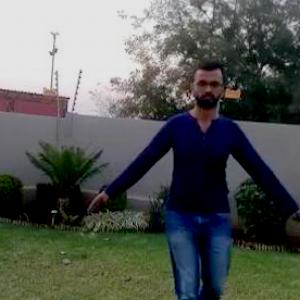land: (114, 75, 298, 299)
